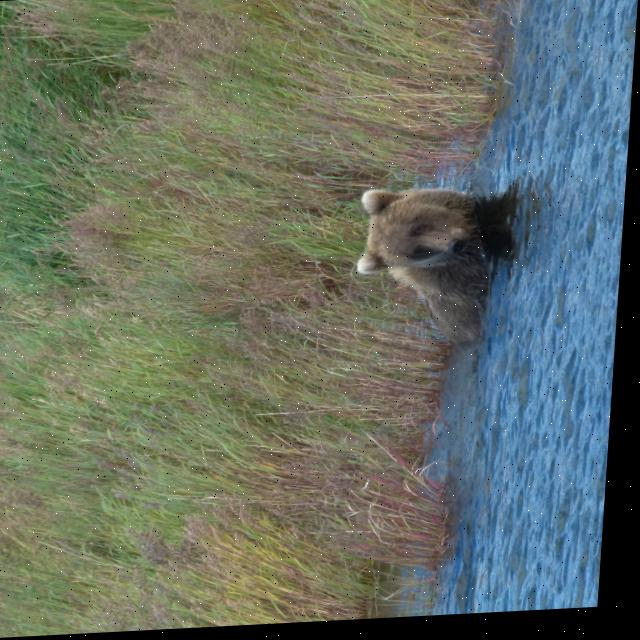bear face: (352, 188, 505, 350)
